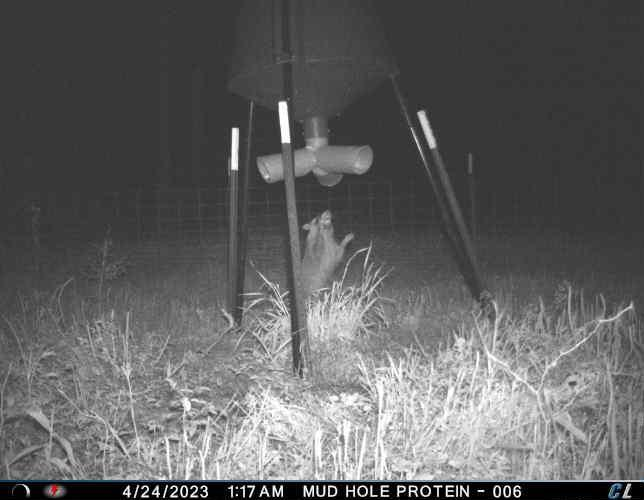Raccoon: (295, 205, 358, 300)
